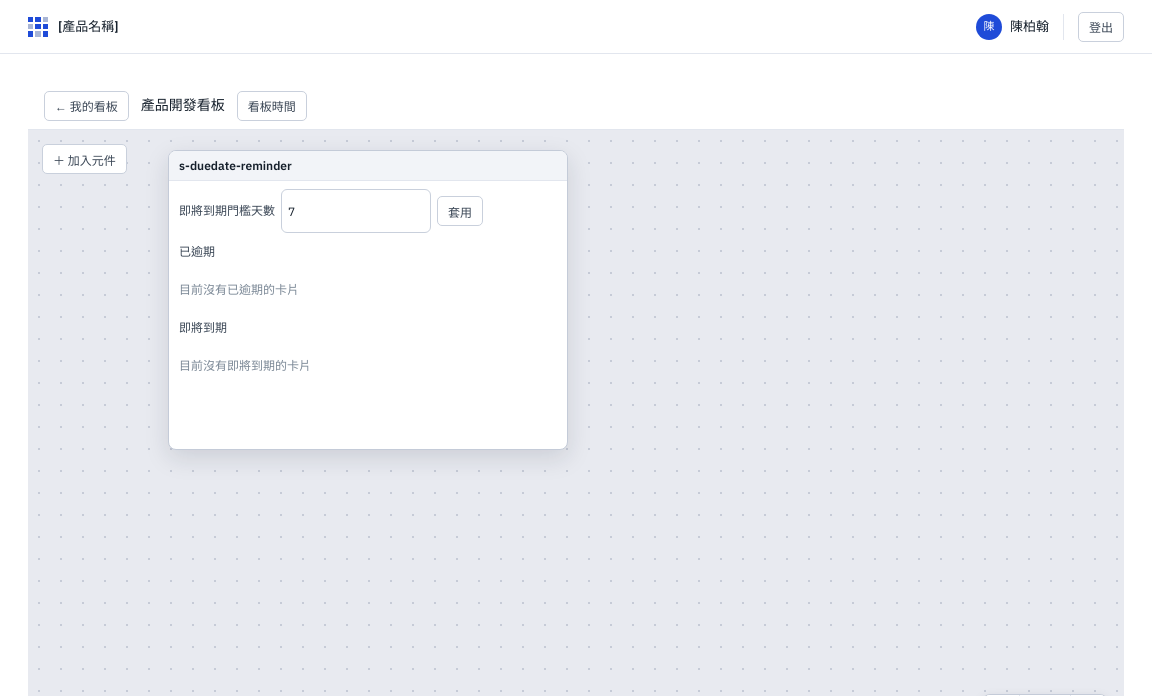
Test: s-duedate-reminder › 門檻天數為 0 時輸入保留、顯示訊息，且不再次觸發 uc-view-duedate-reminder
Expected: the text "目前沒有已逾期的卡片" is shown, [179,282,299,297]
Replace the text in the field labelled "即將到期門檻天數" with "0" at (356, 211), box [281,189,431,233]
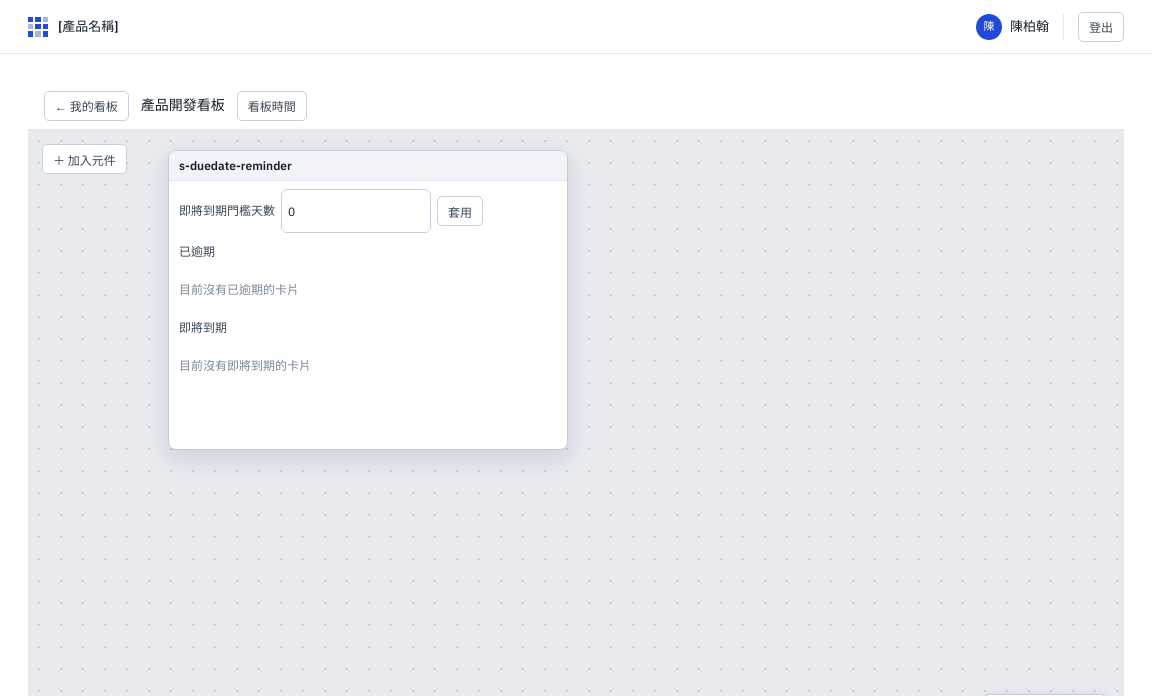
Click the button "套用".
click(460, 211)  # box [437,196,483,226]
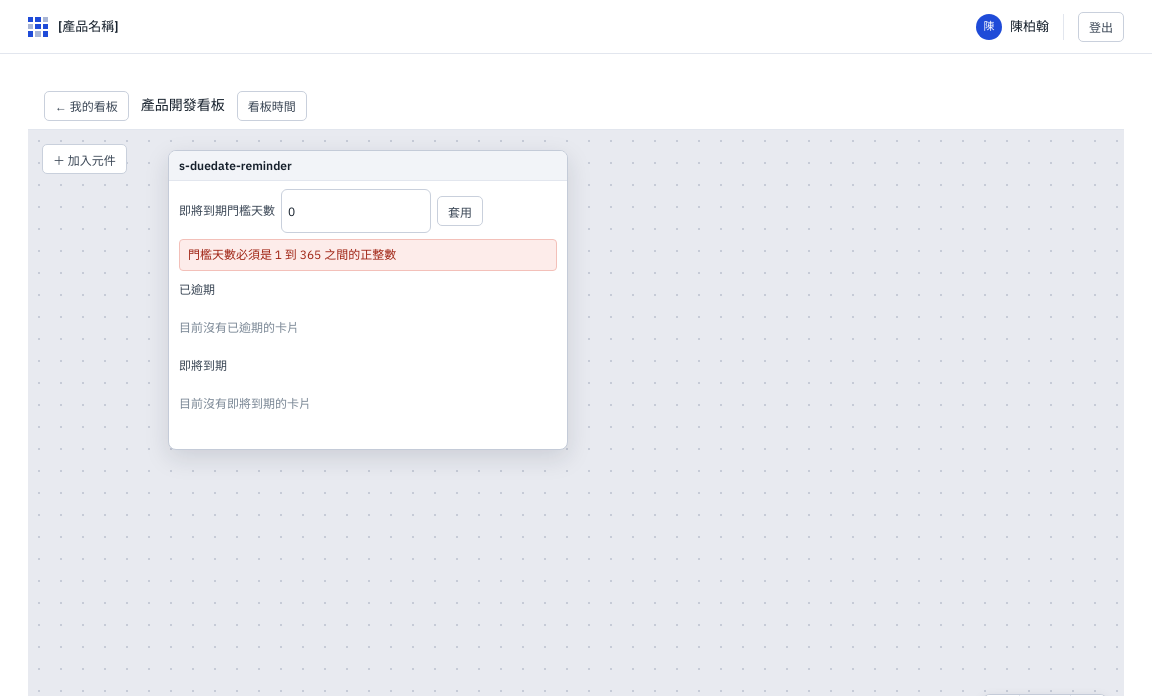
Expected: the message reads "門檻天數必須是 1 到 365 之間的正整數", [188,247,396,262]
